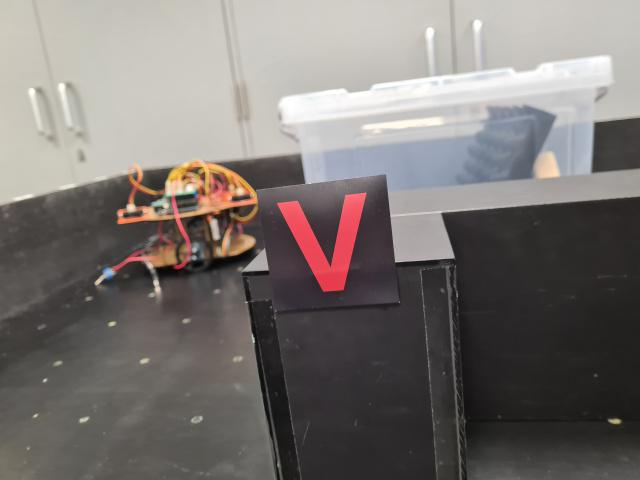v: (255, 174, 402, 312)
